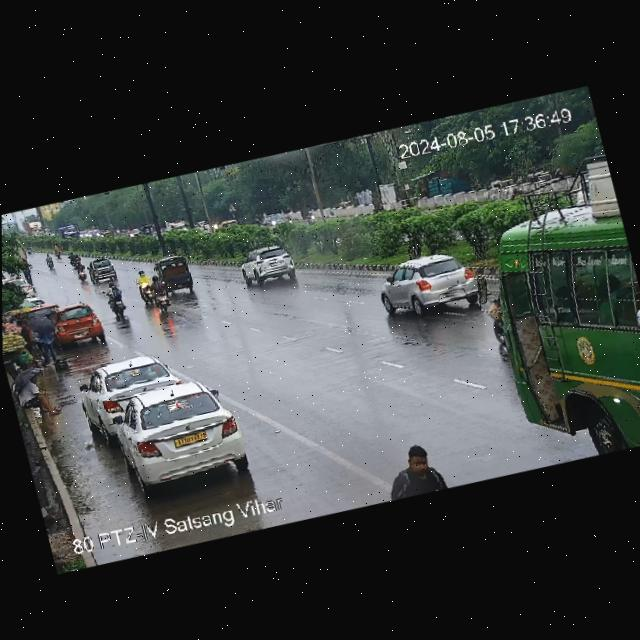bus: (480, 198, 640, 470)
car: (107, 369, 252, 496), (370, 244, 484, 328), (78, 348, 180, 432), (237, 241, 300, 292), (48, 300, 106, 350), (157, 252, 199, 295), (88, 256, 115, 282)
motorcycle: (133, 266, 156, 315), (102, 281, 129, 321), (149, 273, 173, 310), (73, 261, 90, 283), (66, 249, 80, 268), (44, 252, 53, 269)
person: (374, 436, 451, 503), (18, 301, 64, 366), (15, 369, 62, 423)
